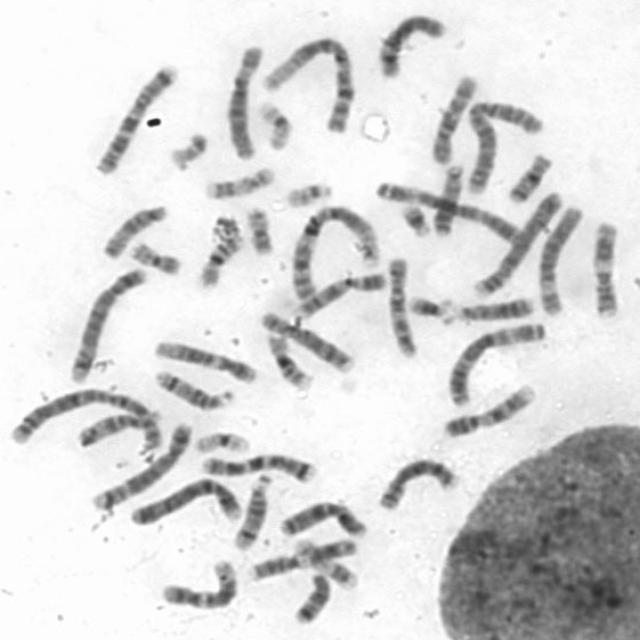A1: (285, 200, 385, 306), (258, 29, 358, 135)
A2: (2, 383, 167, 452), (458, 92, 546, 198)
A3: (371, 176, 526, 245), (443, 314, 552, 410)
B4: (466, 182, 566, 298), (127, 472, 245, 526)
B5: (64, 258, 150, 385), (86, 417, 194, 510)
C10: (426, 68, 482, 165), (382, 251, 420, 360)
C11: (246, 534, 360, 582), (588, 214, 625, 320)
C12: (150, 334, 260, 385), (155, 554, 241, 611)
C6: (533, 199, 586, 319), (220, 38, 267, 162)
C7: (91, 58, 180, 176), (195, 447, 320, 484)
C8: (255, 307, 356, 373), (374, 454, 462, 512)
C9: (436, 377, 540, 441), (290, 268, 391, 320)
D13: (428, 158, 467, 238), (446, 292, 537, 324)
D14: (147, 364, 235, 411), (229, 469, 276, 551)
D15: (97, 200, 171, 262), (73, 405, 164, 449)
E16: (261, 329, 316, 392), (194, 230, 246, 290)
E17: (289, 532, 362, 590), (199, 161, 277, 201)
E18: (503, 148, 556, 204), (286, 568, 333, 626)
F19: (253, 96, 296, 152), (189, 426, 252, 456)
F20: (124, 235, 184, 276), (240, 199, 277, 256)
G21: (404, 289, 460, 325), (396, 199, 432, 239)
G22: (165, 128, 211, 171), (282, 178, 334, 208)
X: (275, 495, 372, 539)
